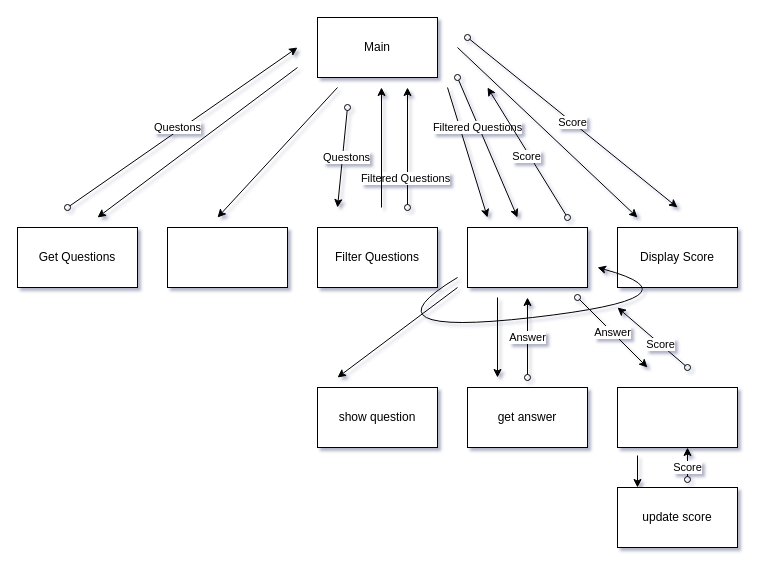
This 761x571 diagram has some shape labels left out. Here are the shapes that lost their labels. From the top down, the centre of each, then its label:
the point at 227,257: Quiz Intro
the point at 527,257: Play Quiz
the point at 677,417: compare answer
